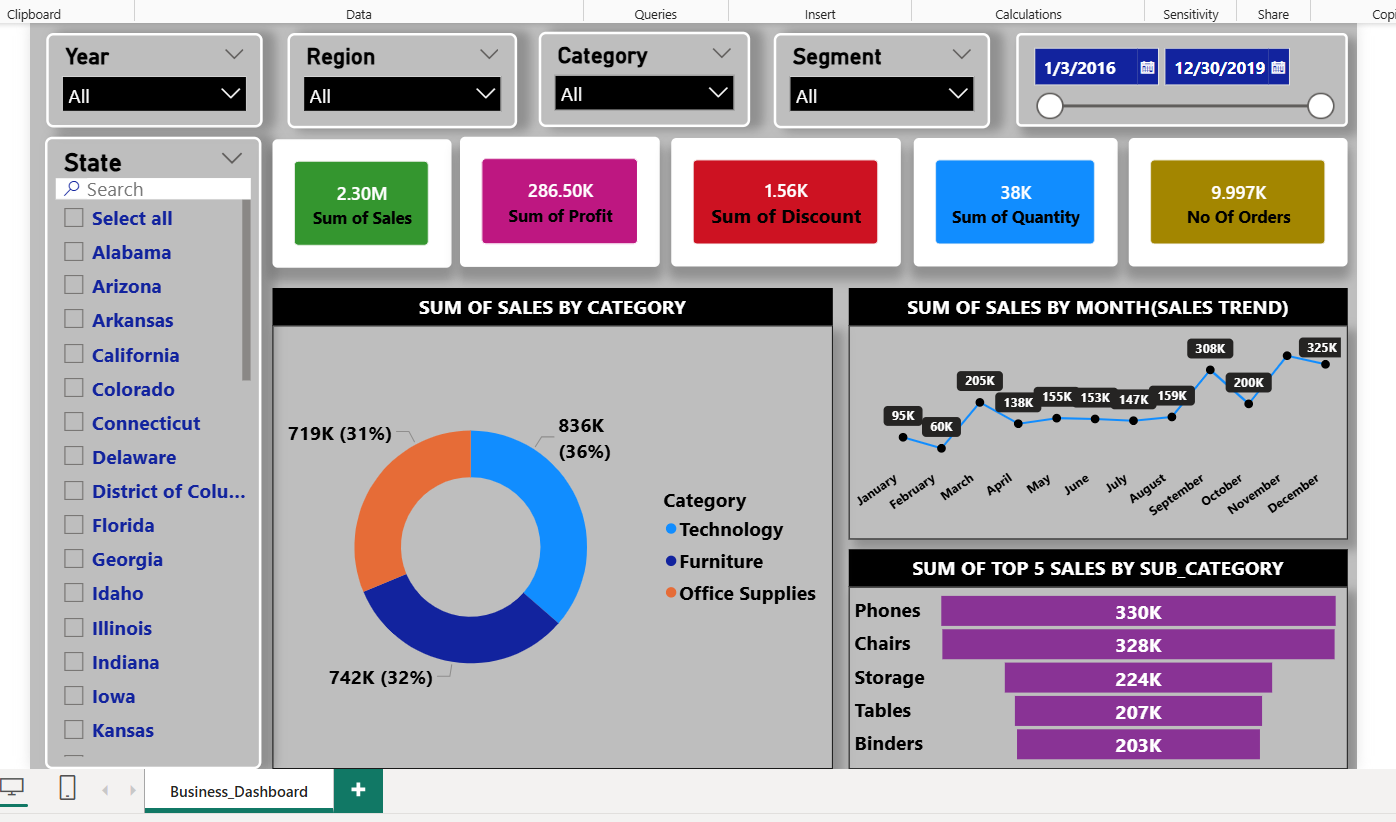

What the dashboard file says about the page in this screenshot:
{"tool":"powerbi","page":{"name":"Business_Dashboard","canvas":[1280,720],"ordinal":0},"visuals":[{"type":"slicer","fields":{"Values":["DATA.Order_Date.Variation.Date Hierarchy.Year"]},"box":[16.2,10,208.8,91.2],"z":0},{"type":"slicer","fields":{"Values":["DATA.Region"]},"box":[248.5,9.7,222,91.7],"z":1000},{"type":"slicer","fields":{"Values":["DATA.Category"]},"box":[491,8.4,203.9,91.7],"z":2000},{"type":"slicer","fields":{"Values":["DATA.Segment"]},"box":[717.8,9.7,208.7,91.7],"z":3000},{"type":"slicer","fields":{"Values":["DATA.State"]},"box":[15,110,208.8,610],"z":4000},{"type":"slicer","fields":{"Values":["DATA.Order_Date"]},"box":[951.9,9.7,319.7,90.5],"z":5000},{"type":"cardVisual","fields":{"Data":["Sum(DATA.Sales)"]},"box":[234,112.2,172.5,124.3],"z":6000},{"type":"cardVisual","fields":{"Data":["Sum(DATA.Profit)"]},"box":[415,109.8,193,125.5],"z":7000},{"type":"cardVisual","fields":{"Data":["Sum(DATA.Discount)"]},"box":[618.9,111,222,124.3],"z":8000},{"type":"cardVisual","fields":{"Data":["Sum(DATA.Quantity)"]},"box":[853,111,196.6,124.3],"z":9000},{"type":"cardVisual","fields":{"Data":["CountNonNull(DATA.Order ID)"]},"box":[1060.5,111,211.1,124.3],"z":10000},{"type":"lineChart","fields":{"Category":["DATA.Order_Date.Variation.Date Hierarchy.Month"],"Y":["Sum(DATA.Sales)"]},"box":[790.2,292,481.4,206.3],"z":11000},{"type":"textbox","box":[790.2,255.8,481.4,36.2],"z":12000},{"type":"funnel","fields":{"Category":["DATA.Sub_Category"],"Y":["Sum(DATA.Sales)"]},"box":[790.2,544.1,481.4,176.1],"z":13000},{"type":"textbox","box":[790.2,507.9,481.4,36.2],"z":14000},{"type":"donutChart","fields":{"Category":["DATA.Category"],"Y":["Sum(DATA.Sales)"]},"box":[234,292,540.5,428.3],"z":14001},{"type":"textbox","box":[234,255.8,540.5,36.2],"z":14002}]}

Visuals, with their boxes in screenshot pixels (x1, y1, x2, y2):
slicer - DATA.Order_Date.Variation.Date Hierarchy.Year: rect(42, 29, 259, 123)
slicer - DATA.Region: rect(283, 28, 514, 123)
slicer - DATA.Category: rect(535, 27, 746, 122)
slicer - DATA.Segment: rect(770, 28, 987, 123)
slicer - DATA.State: rect(41, 132, 258, 765)
slicer - DATA.Order_Date: rect(1013, 28, 1345, 122)
cardVisual - Sum(DATA.Sales): rect(268, 135, 447, 264)
cardVisual - Sum(DATA.Profit): rect(456, 132, 656, 262)
cardVisual - Sum(DATA.Discount): rect(668, 133, 898, 262)
cardVisual - Sum(DATA.Quantity): rect(910, 133, 1114, 262)
cardVisual - CountNonNull(DATA.Order ID): rect(1126, 133, 1345, 262)
lineChart - DATA.Order_Date.Variation.Date Hierarchy.Month x Sum(DATA.Sales): rect(845, 321, 1345, 535)
textbox: rect(845, 284, 1345, 321)
funnel - DATA.Sub_Category x Sum(DATA.Sales): rect(845, 583, 1345, 765)
textbox: rect(845, 545, 1345, 583)
donutChart - DATA.Category x Sum(DATA.Sales): rect(268, 321, 829, 765)
textbox: rect(268, 284, 829, 321)
